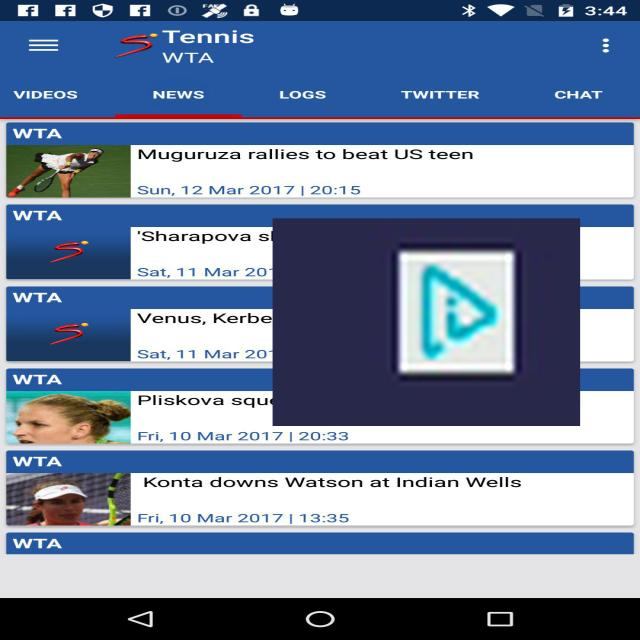sneaking: (273, 218, 580, 426)
